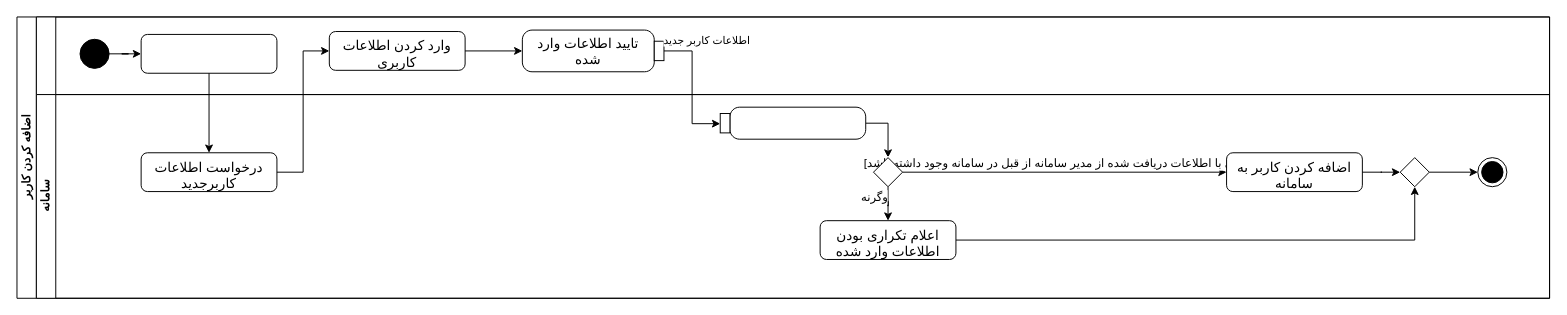
This 1567x315 diagram has some shape labels left out. Each missing label, with the box of its shape:
بررسی اطلاعات: (719, 106, 866, 139)
درخواست اضافه کردن کاربر جدید: (140, 33, 277, 73)
مدیر سامانه: (35, 16, 1550, 95)
